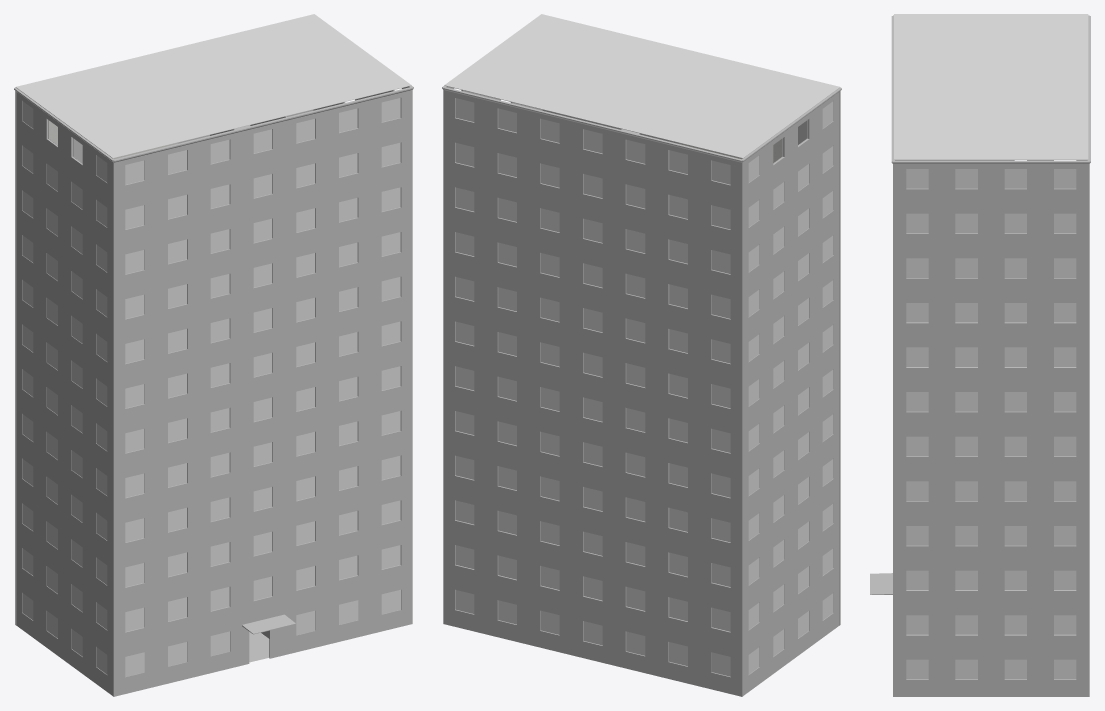
File: IE_Home.gltf
3 views of the same model, side by side, from view 1: azimuth 30°, elevation 25°; view 2: azimuth 150°, elevation 25°; view 3: azimuth 270°, elevation 25° (orthographic).
Visible parts, largest first — view 1: Cube.002, Plane, Cube.001, Plane.003, Plane.004, Plane.005; view 2: Cube.002, Plane.001, Cube.001, Plane.003, Plane.006; view 3: Cube.002, Cube.001, Plane.002.
Part boxes in pixels (box(x1,y1,x2,y2)): Cube.002: box(14, 85, 413, 696); Plane: box(125, 98, 400, 631); Cube.001: box(15, 14, 411, 158); Plane.003: box(22, 101, 107, 674); Plane.004: box(296, 589, 400, 635); Plane.005: box(125, 631, 229, 676); Cube.002: box(442, 85, 841, 696); Plane.001: box(455, 98, 730, 631); Cube.001: box(444, 14, 840, 158); Plane.003: box(748, 101, 833, 674); Plane.006: box(455, 590, 730, 676); Cube.002: box(870, 15, 1090, 696); Cube.001: box(894, 14, 1088, 159); Plane.002: box(906, 169, 1076, 679).
Bounding box in the file's own units: 33.02 × 56.41 × 21.02.
